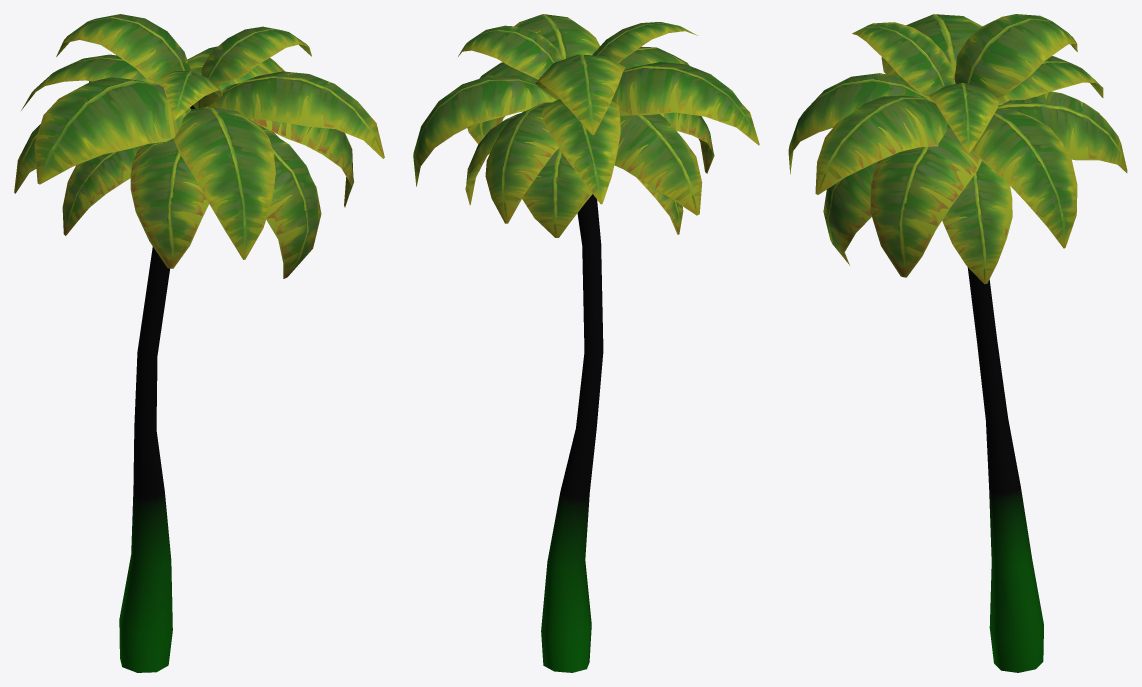
File: P_PalmTree04.obj
The picture shows the model from 3 angles, left to right: view 1: azimuth 30°, elevation 25°; view 2: azimuth 150°, elevation 25°; view 3: azimuth 270°, elevation 25°; orthographic projection. The views are drawn at different scales.
Size of the model in its own units: 6.98 by 13.99 by 6.8.
